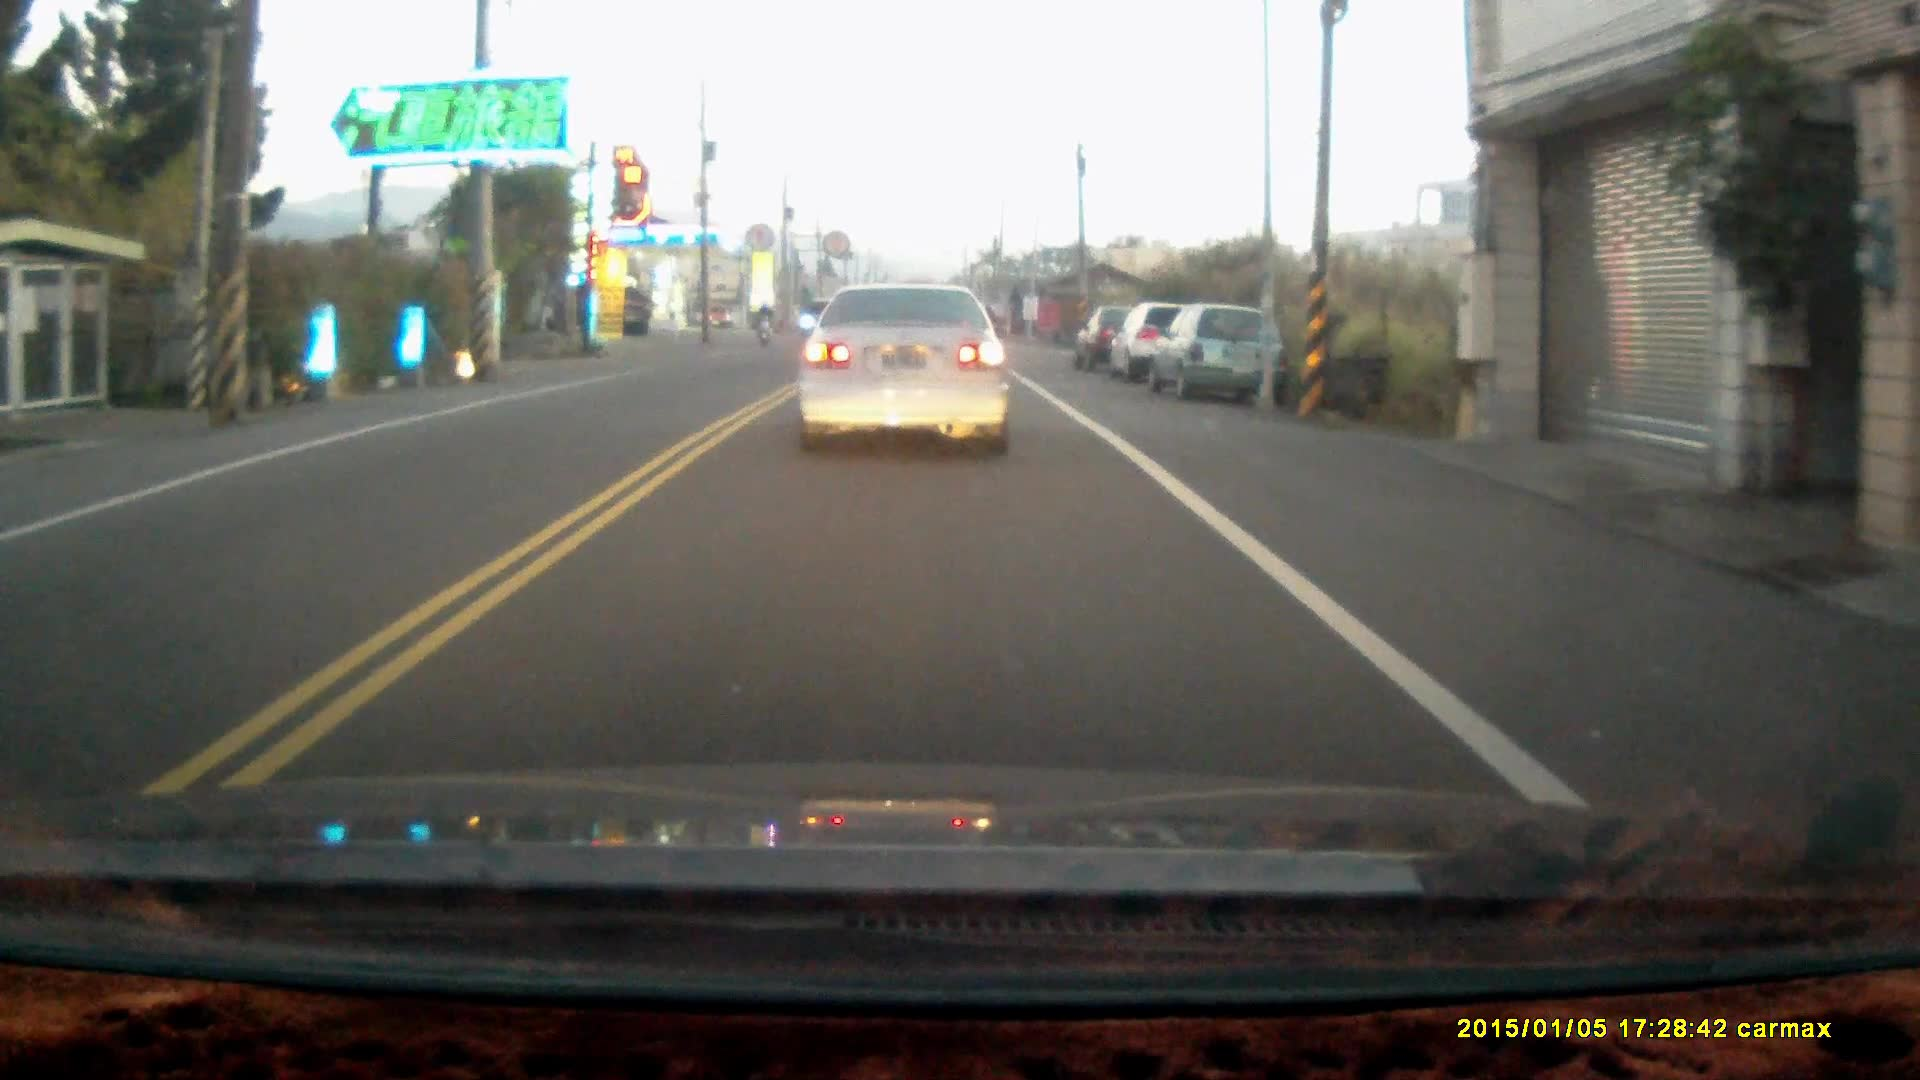rider: (753, 302, 773, 346)
vehicle: (795, 278, 1012, 463), (1158, 306, 1288, 405), (1117, 301, 1228, 382), (1079, 309, 1173, 374)
